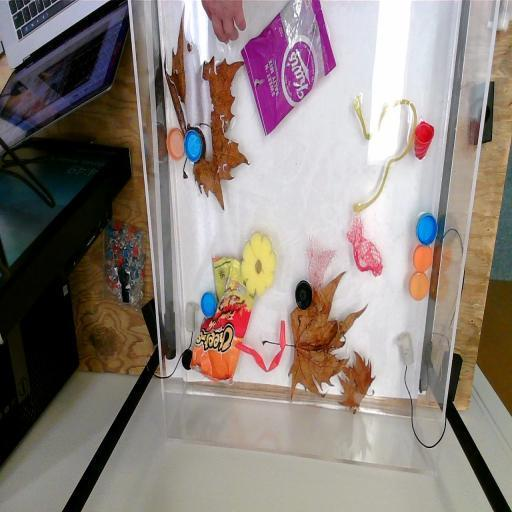Bottle Cap: (414, 207, 438, 248), (408, 270, 432, 308), (184, 126, 204, 168), (410, 244, 436, 275), (165, 124, 185, 164), (292, 278, 314, 313), (199, 286, 218, 322), (180, 346, 194, 372)
Cone Cap: (412, 111, 436, 165)
Leaf: (162, 34, 244, 212), (278, 272, 354, 396), (336, 348, 378, 416)
Netting: (344, 213, 386, 283), (304, 231, 337, 290)
Plastic Bag: (244, 2, 338, 141), (188, 252, 255, 392)
Plastic Strand: (348, 90, 418, 220), (232, 319, 292, 373)
Sponge: (240, 229, 276, 298)
